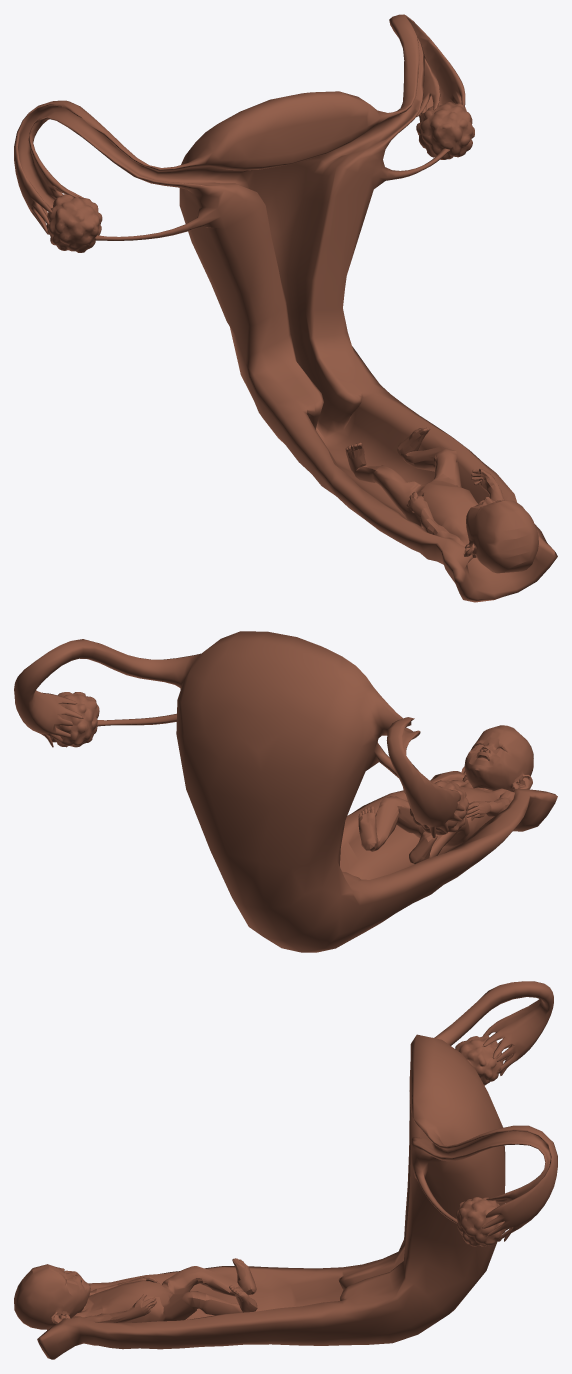
The model's file is Vagina 3.fbx.
3 views of the same model, one above another, from view 1: azimuth 30°, elevation 25°; view 2: azimuth 150°, elevation 25°; view 3: azimuth 270°, elevation 25° (orthographic). The views are drawn at different scales.
Parts seen in each view (by area): view 1: REPRODUCTIONEPRODUCTIONINANIMALS:Uterus_XSection:UterusCross, fetus1, REPRODUCTIONEPRODUCTIONINANIMALS:Uterus_XSection:Ovary001, REPRODUCTIONEPRODUCTIONINANIMALS:Uterus_XSection:Ovary002; view 2: REPRODUCTIONEPRODUCTIONINANIMALS:Uterus_XSection:UterusCross, fetus1, REPRODUCTIONEPRODUCTIONINANIMALS:Uterus_XSection:Ovary002, REPRODUCTIONEPRODUCTIONINANIMALS:Uterus_XSection:Ovary001; view 3: REPRODUCTIONEPRODUCTIONINANIMALS:Uterus_XSection:UterusCross, fetus1, REPRODUCTIONEPRODUCTIONINANIMALS:Uterus_XSection:Ovary002, REPRODUCTIONEPRODUCTIONINANIMALS:Uterus_XSection:Ovary001.
Part boxes in pixels (<box>): REPRODUCTIONEPRODUCTIONINANIMALS:Uterus_XSection:UterusCross: <box>14,14,557,602</box>; fetus1: <box>345,427,538,573</box>; REPRODUCTIONEPRODUCTIONINANIMALS:Uterus_XSection:Ovary001: <box>46,194,102,252</box>; REPRODUCTIONEPRODUCTIONINANIMALS:Uterus_XSection:Ovary002: <box>416,102,474,159</box>; REPRODUCTIONEPRODUCTIONINANIMALS:Uterus_XSection:UterusCross: <box>14,631,557,952</box>; fetus1: <box>358,725,533,864</box>; REPRODUCTIONEPRODUCTIONINANIMALS:Uterus_XSection:Ovary002: <box>50,692,99,747</box>; REPRODUCTIONEPRODUCTIONINANIMALS:Uterus_XSection:Ovary001: <box>410,780,468,835</box>; REPRODUCTIONEPRODUCTIONINANIMALS:Uterus_XSection:UterusCross: <box>37,981,557,1359</box>; fetus1: <box>14,1258,257,1329</box>; REPRODUCTIONEPRODUCTIONINANIMALS:Uterus_XSection:Ovary002: <box>456,1197,505,1246</box>; REPRODUCTIONEPRODUCTIONINANIMALS:Uterus_XSection:Ovary001: <box>455,1035,503,1085</box>.
Size of the model in its own units: 265 by 202 by 326.
